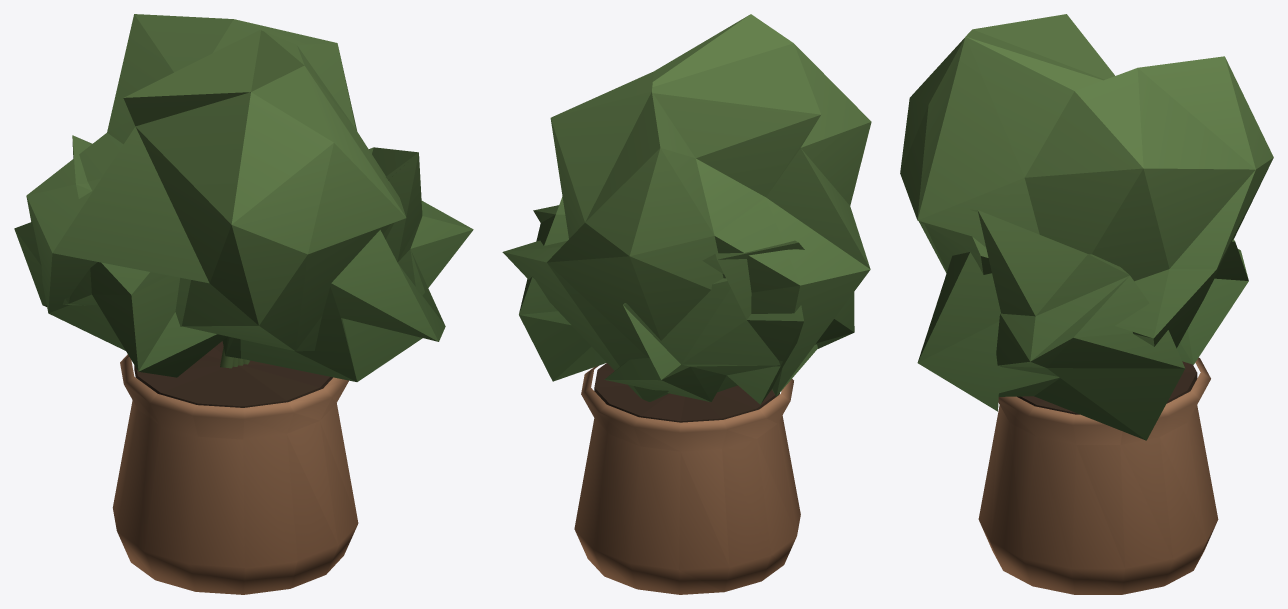
The model's file is potted-plant.glb.
The picture shows the model from 3 angles, left to right: view 1: azimuth 30°, elevation 25°; view 2: azimuth 150°, elevation 25°; view 3: azimuth 270°, elevation 25°; orthographic projection. The views are drawn at different scales.
Visible parts, largest first — view 1: potted_plant; view 2: potted_plant; view 3: potted_plant.
Part boxes in pixels (<box>): potted_plant: <box>14,14,473,594</box>; potted_plant: <box>502,14,871,594</box>; potted_plant: <box>900,14,1273,594</box>.
Size of the model in its own units: 0.6222 by 0.8157 by 0.5301.
